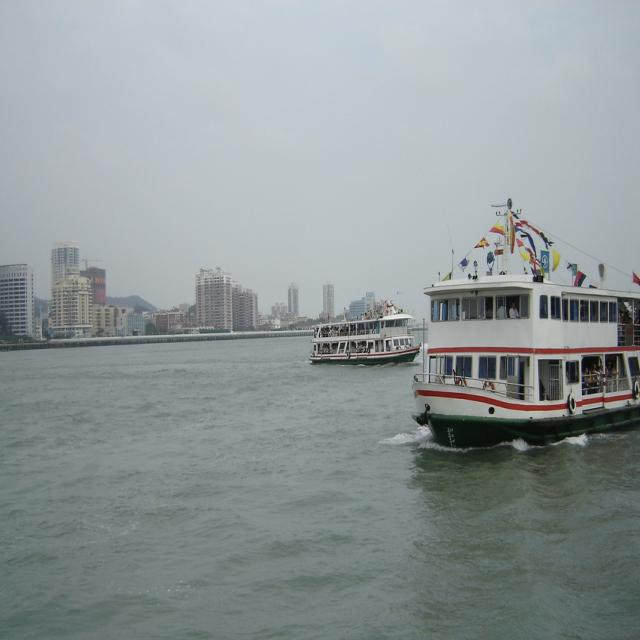passenger ship: (405, 210, 640, 455), (306, 306, 414, 368)
